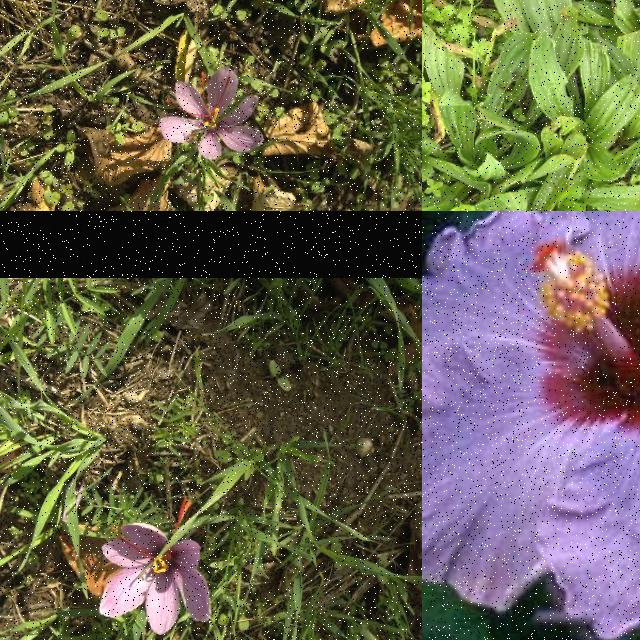flower: (100, 498, 212, 636), (160, 68, 264, 160)
